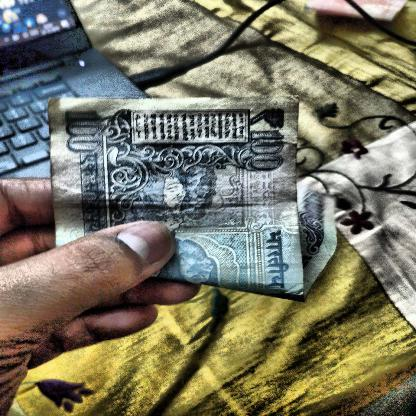Rs100: (247, 107, 290, 173), (60, 106, 107, 158)
